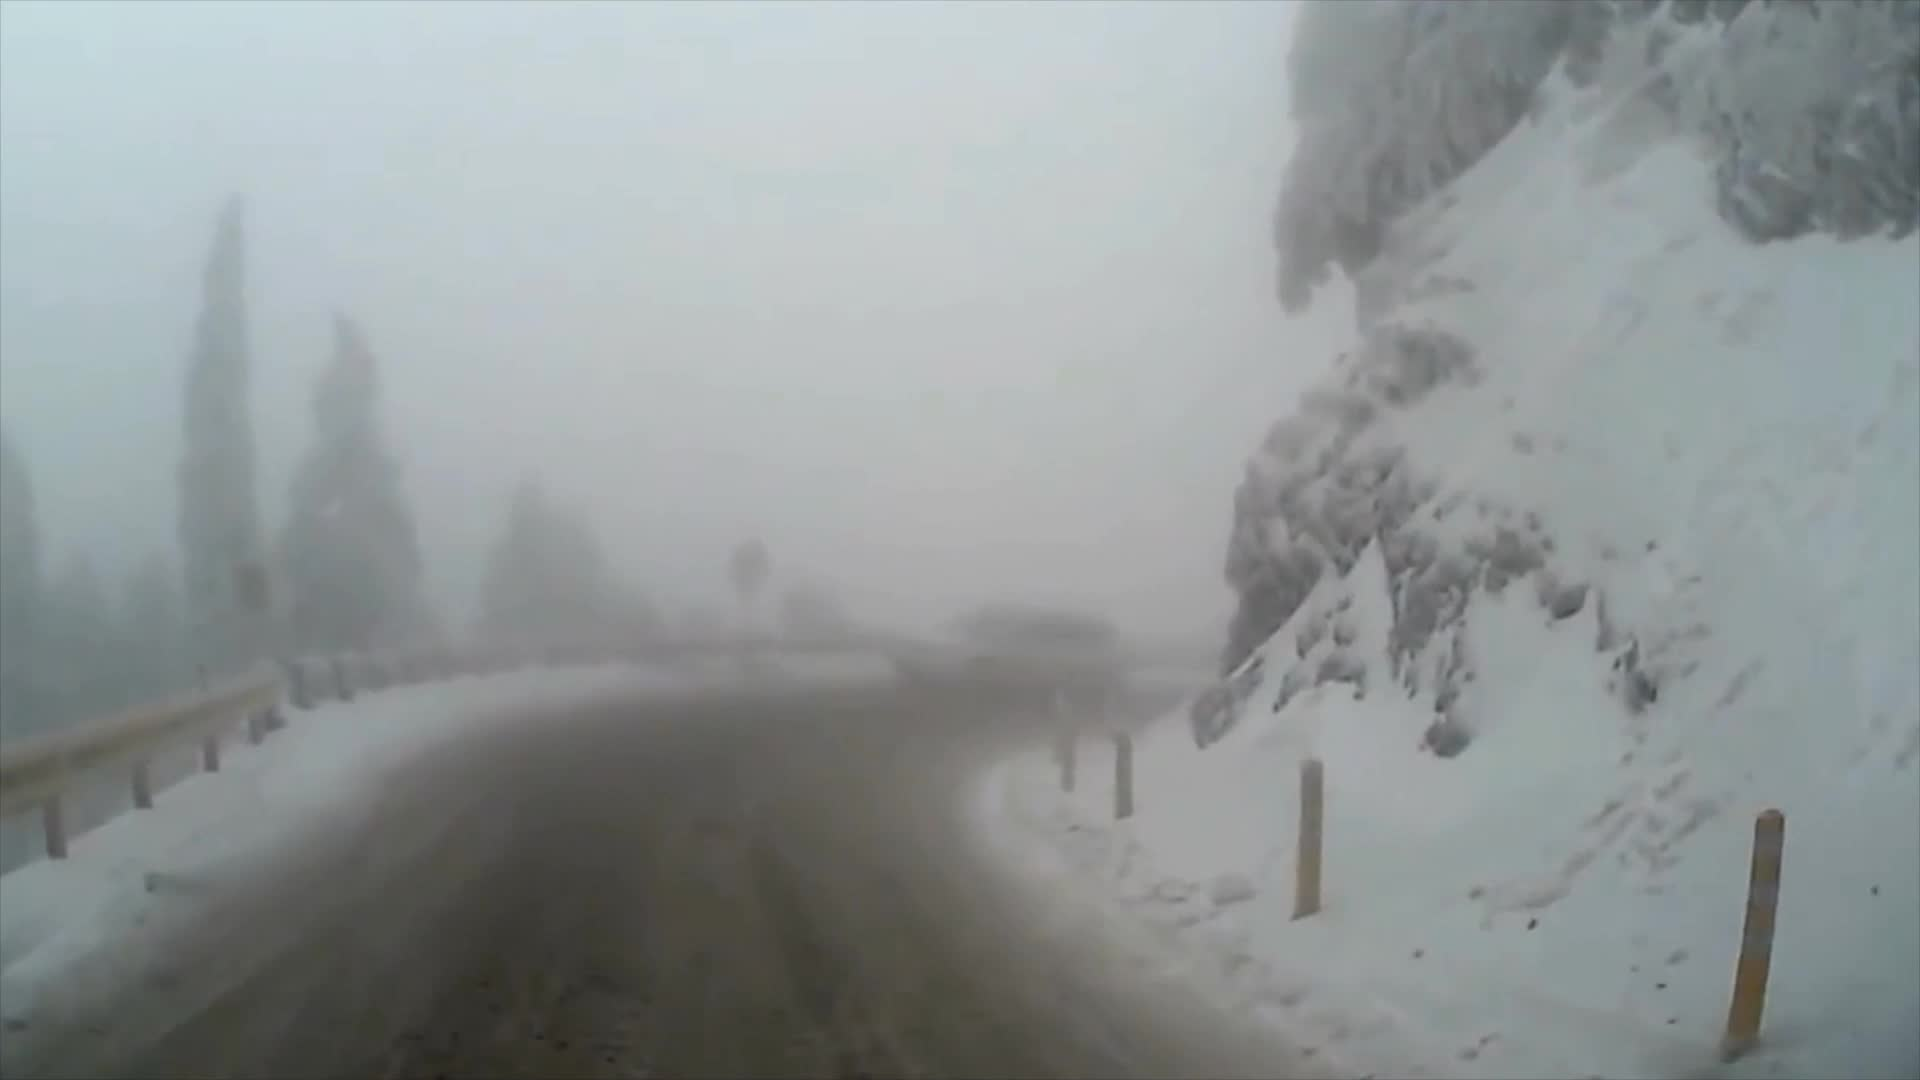vehicle: (884, 596, 1125, 713)
